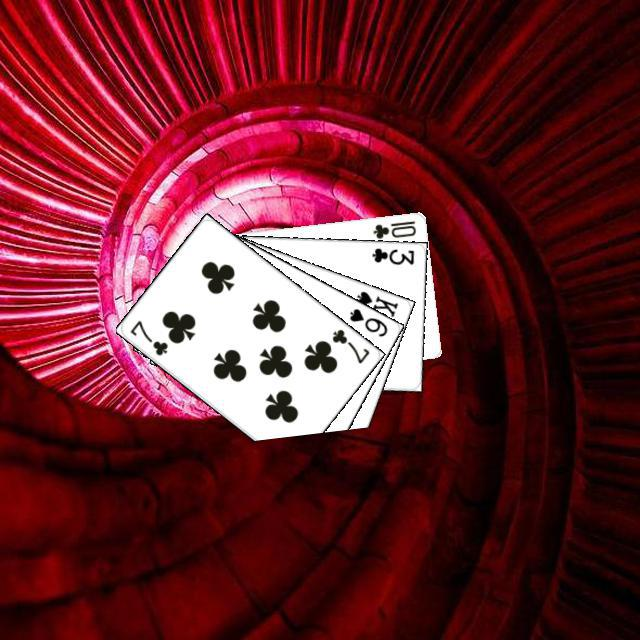10c: (368, 216, 418, 240)
3c: (367, 243, 415, 266)
6s: (344, 303, 389, 338)
7c: (125, 315, 170, 357), (327, 324, 371, 365)
Ks: (352, 286, 400, 319)
